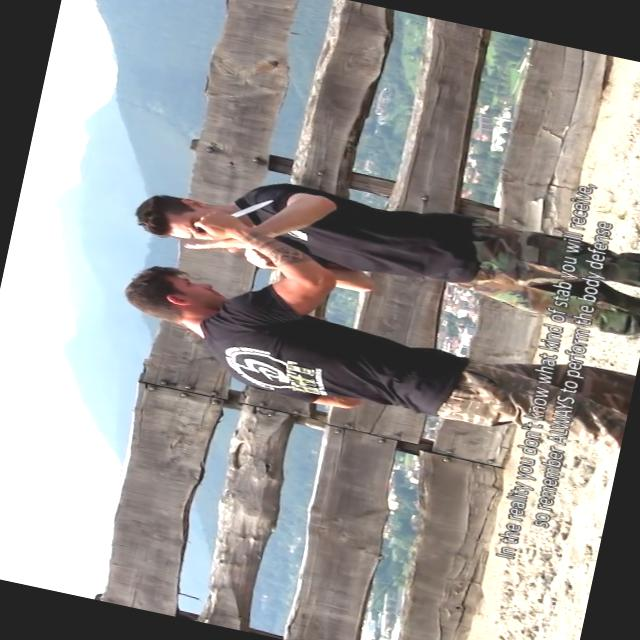knife: (183, 180, 280, 253)
